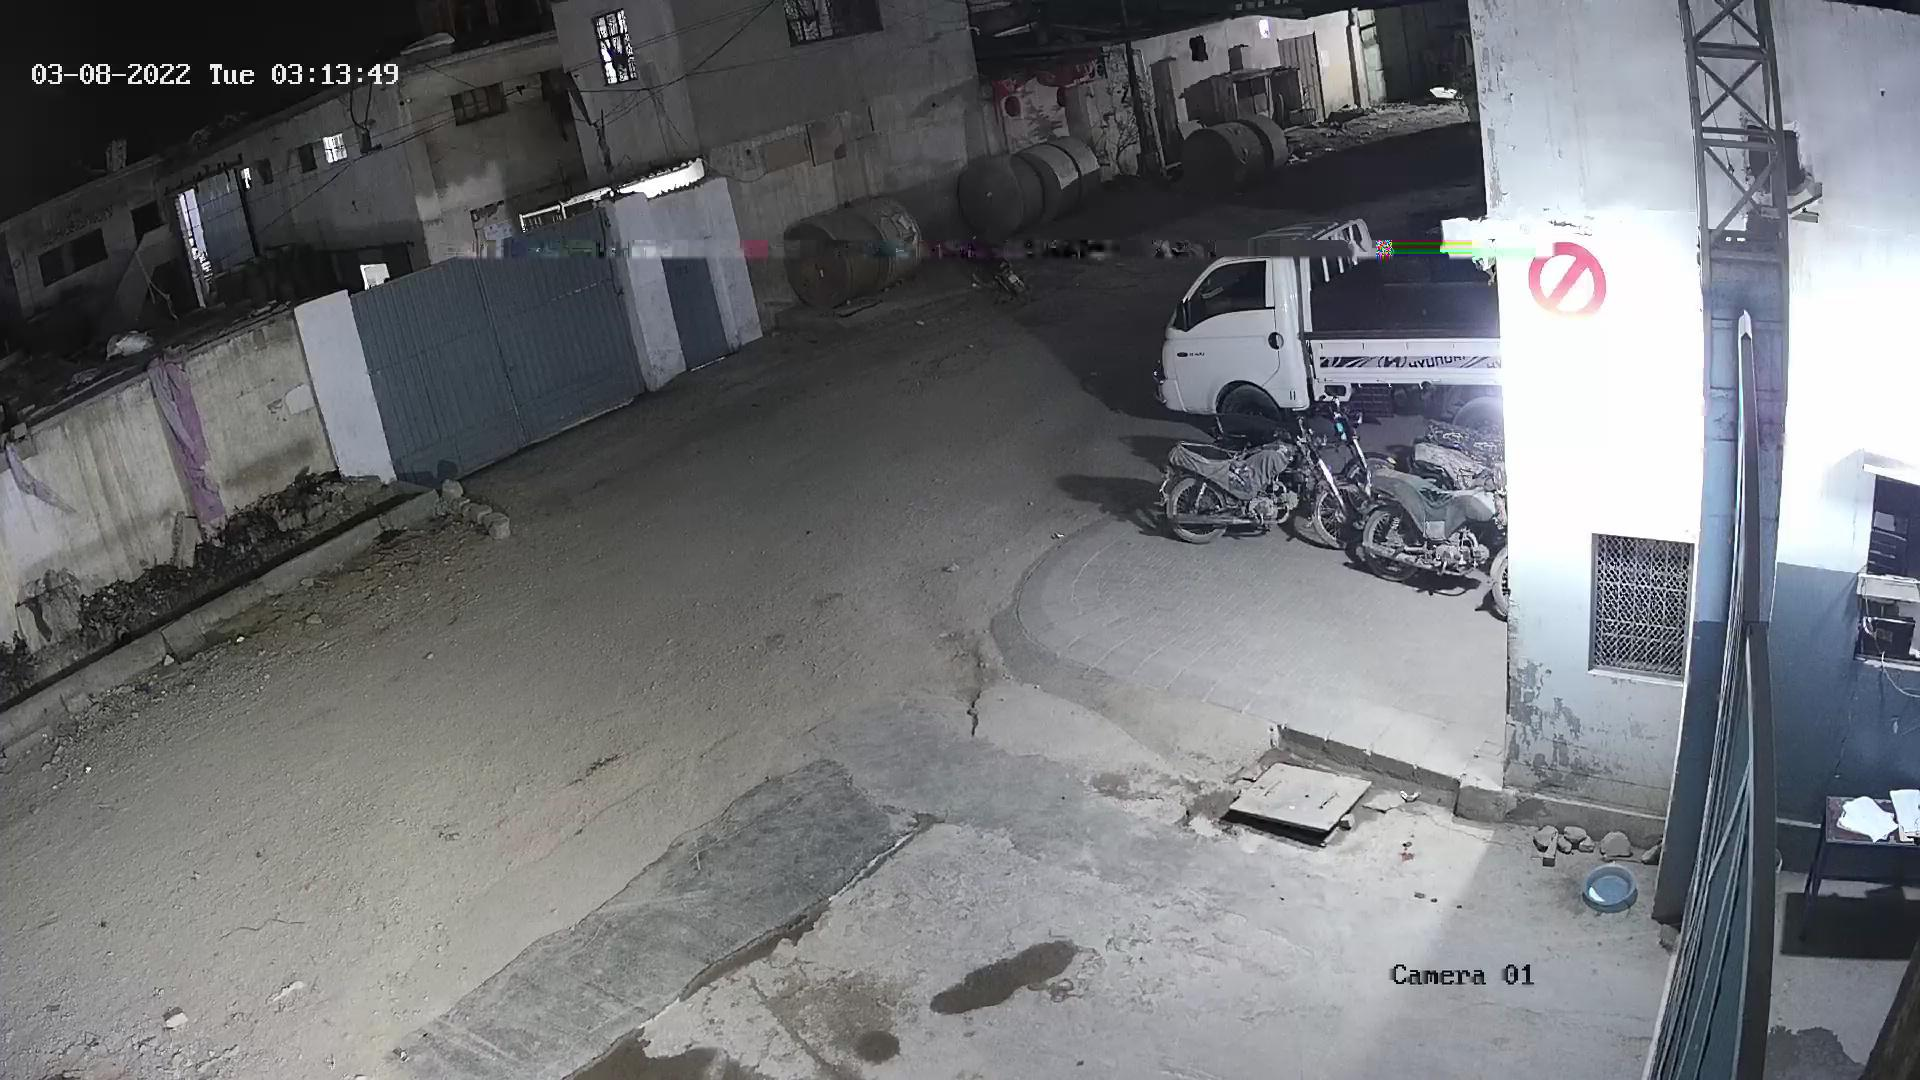Ltv: (1150, 214, 1501, 430)
bike: (1162, 442, 1348, 545), (1364, 467, 1506, 582), (1213, 404, 1360, 454), (1410, 440, 1505, 492), (968, 253, 1033, 307), (1428, 421, 1505, 463)
